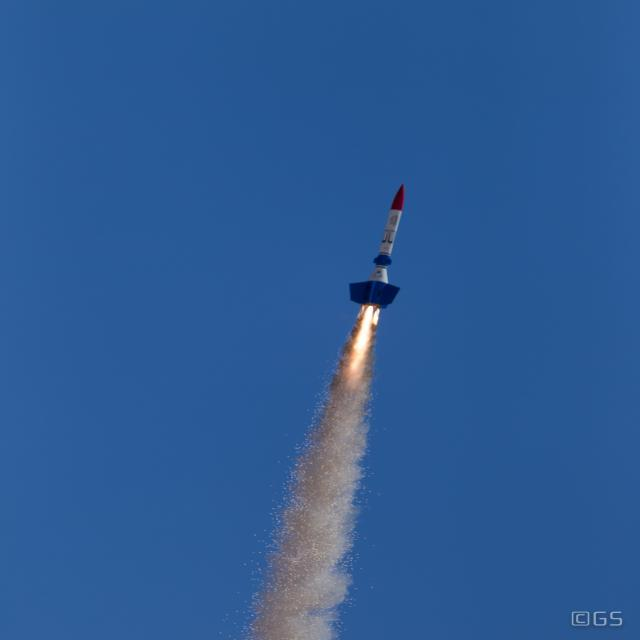Rocket: (348, 183, 406, 309)
